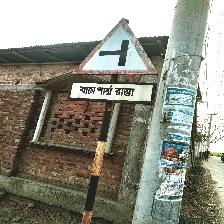Side-road-left: (70, 17, 158, 105)
